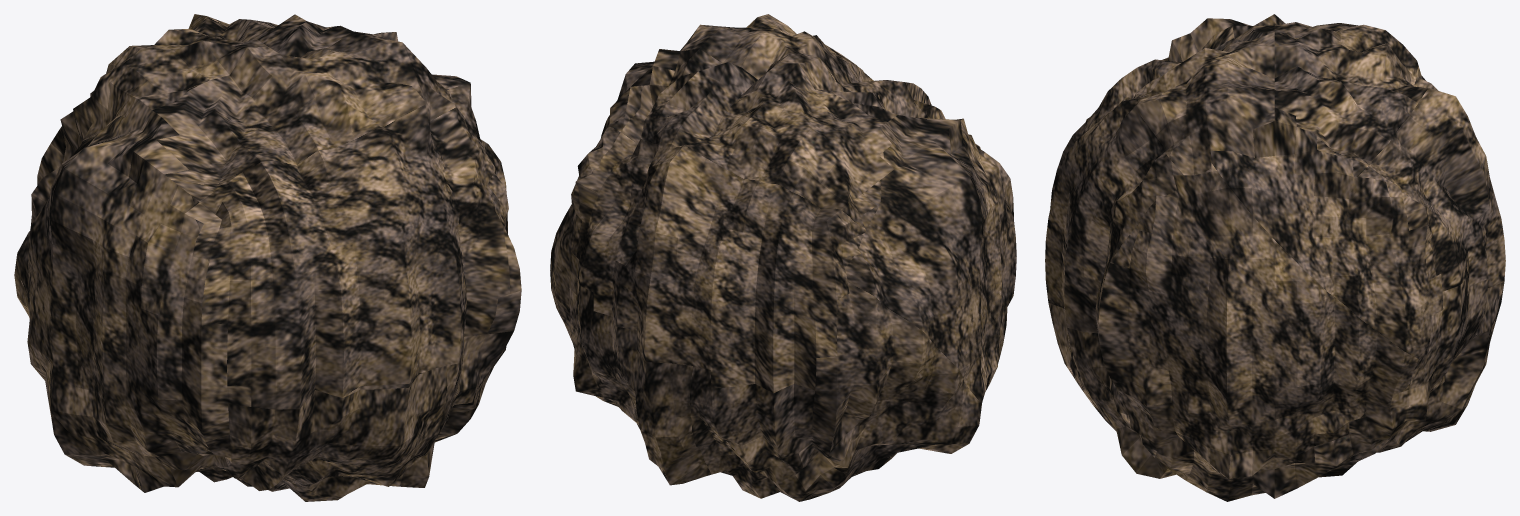
File: asteroid42.obj
3 renders of one model, left to right at view 1: azimuth 30°, elevation 25°; view 2: azimuth 150°, elevation 25°; view 3: azimuth 270°, elevation 25°, orthographic. The views are drawn at different scales.
Visible parts, largest first — view 1: Cube_Cube.002; view 2: Cube_Cube.002; view 3: Cube_Cube.002.
Boxes of the visible parts, x1,y1,x2,y2 form: Cube_Cube.002: [14, 14, 521, 501]; Cube_Cube.002: [550, 14, 1016, 501]; Cube_Cube.002: [1045, 14, 1505, 501].
Size of the model in its own units: 1.81 by 1.76 by 1.75.
